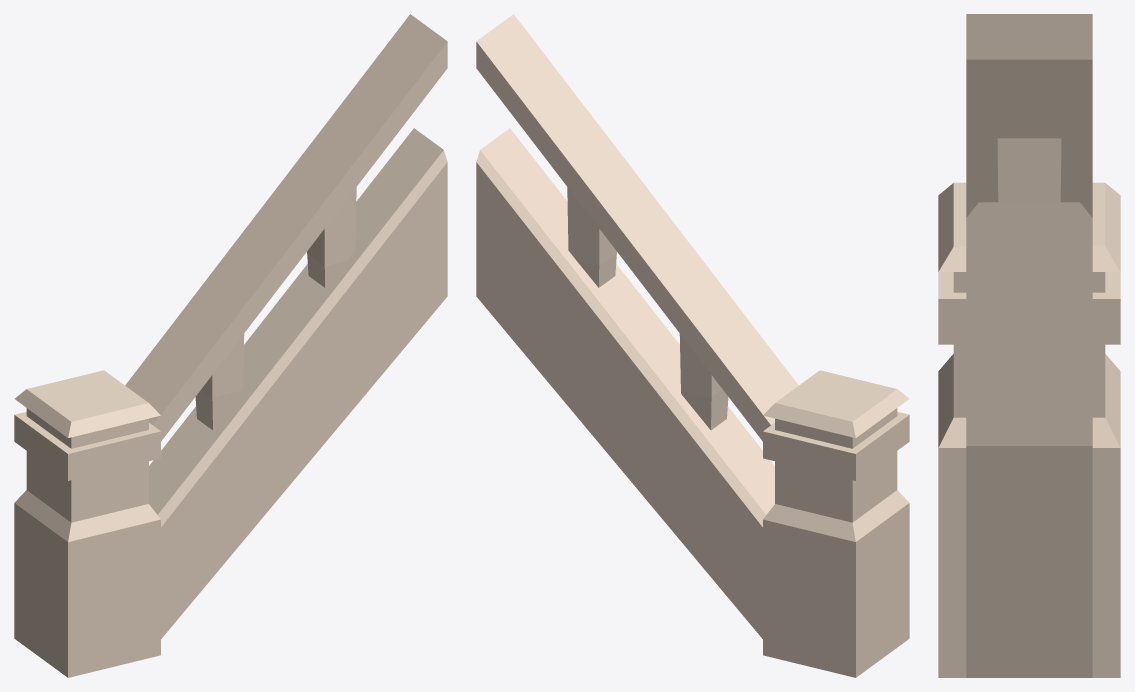
The model's file is empire-railing-vertical-empire.glb.
3 renders of one model, left to right at view 1: azimuth 30°, elevation 25°; view 2: azimuth 150°, elevation 25°; view 3: azimuth 270°, elevation 25°, orthographic. The views are drawn at different scales.
Parts seen in each view (by area): view 1: SM_Railing_Vertical_Empire; view 2: SM_Railing_Vertical_Empire; view 3: SM_Railing_Vertical_Empire.
Part boxes in pixels (x1,y1,x2,y2): SM_Railing_Vertical_Empire: [14, 14, 447, 677]; SM_Railing_Vertical_Empire: [476, 14, 909, 677]; SM_Railing_Vertical_Empire: [938, 14, 1120, 677].
Bounding box in the file's own units: 3 × 3.96 × 0.7206.
